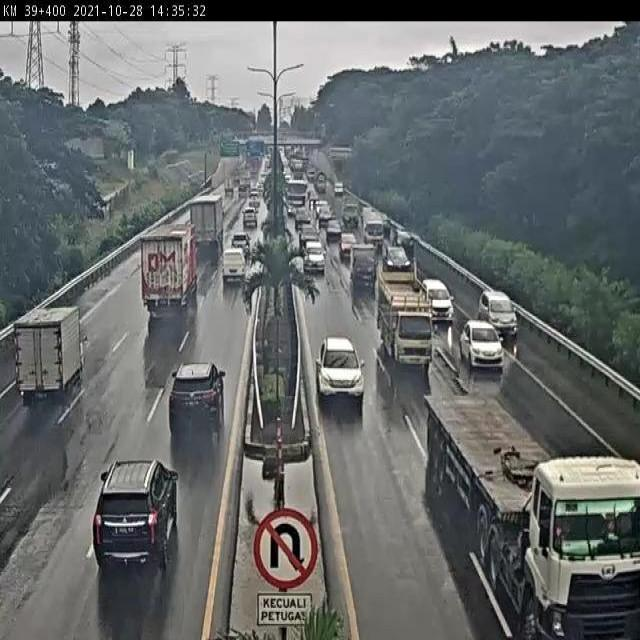big truck: (418, 378, 629, 630), (140, 225, 199, 311), (191, 196, 226, 251), (285, 180, 307, 216)
car: (95, 463, 177, 573), (168, 364, 226, 439), (319, 341, 364, 400), (453, 312, 494, 359), (469, 283, 506, 329), (415, 274, 447, 314), (346, 237, 371, 275), (221, 251, 246, 281), (389, 224, 413, 253), (381, 243, 407, 268), (229, 235, 252, 261), (305, 244, 325, 269), (338, 229, 353, 256), (241, 208, 258, 228), (298, 221, 314, 239), (293, 208, 309, 225), (319, 201, 332, 220), (323, 216, 336, 235)
small truck: (13, 307, 84, 396), (374, 270, 427, 358), (365, 209, 389, 244), (340, 202, 355, 222)
